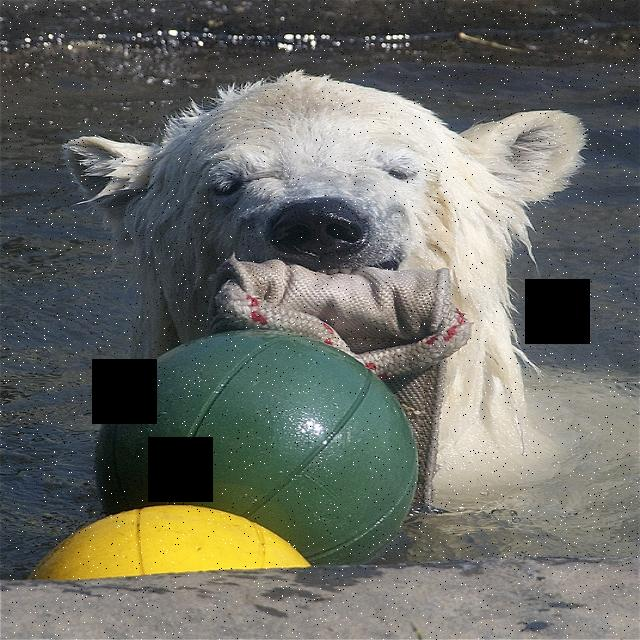Bear: (54, 61, 590, 521)
